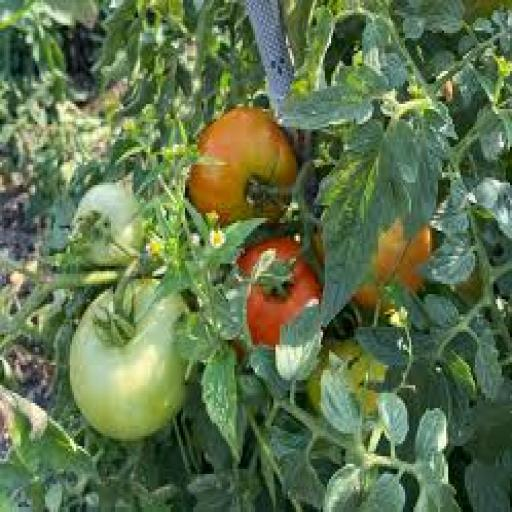tomato: (70, 279, 185, 441), (188, 107, 298, 223), (239, 239, 322, 347), (354, 221, 431, 309), (307, 340, 386, 413), (75, 183, 143, 266), (463, 0, 511, 20)
